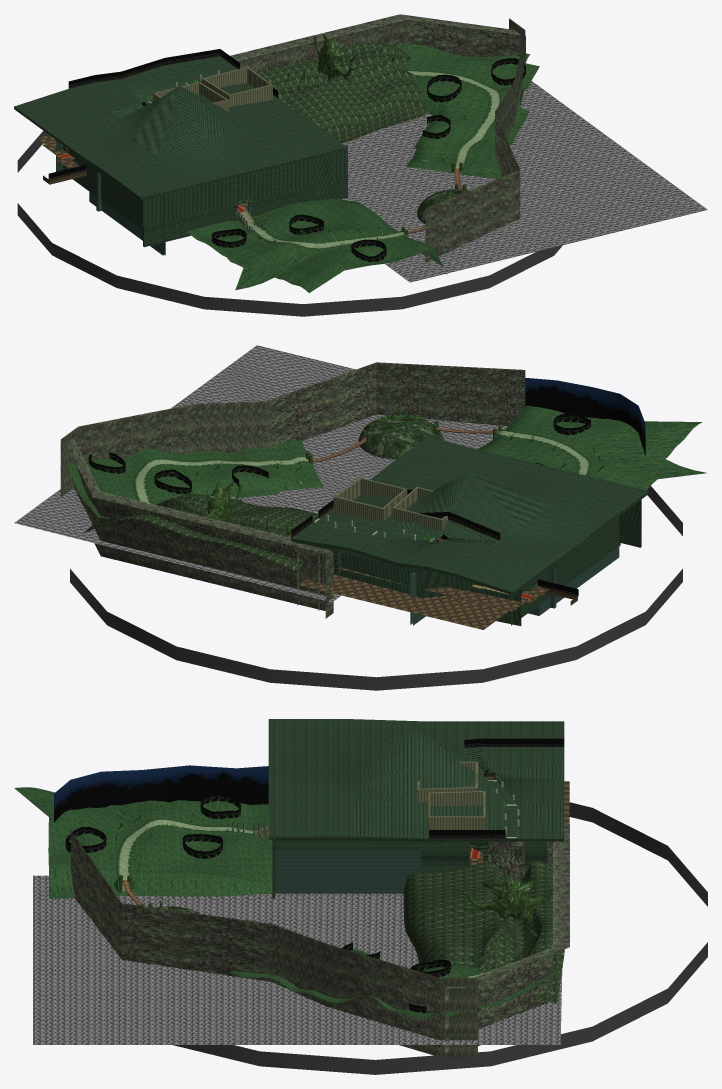
The picture shows the model from 3 angles, top to bottom: view 1: azimuth 30°, elevation 25°; view 2: azimuth 150°, elevation 25°; view 3: azimuth 270°, elevation 25°; orthographic projection. The views are drawn at different scales.
Parts seen in each view (by area): view 1: Water.016, TechoSRSlow, OffroadPast, Walloterere, wallhouse, RoadFueraone, Base, RoadOut, WallTRansArboles, WallIntecho, WallTransTecho, ARbollWall (+3 smaller); view 2: Walloterere, TechoSRSlow, OffroadPast, Water.016, Base, wallhouse, roadlentocasa, RoadFueraone, WallTransFondoNull, WallIntecho, RoadOut, RoadInLago (+5 smaller); view 3: Water.016, TechoSRSlow, Walloterere, OffroadPast, RoadFueraone, Base, WallTransFondoNull, WallInterHouse, wallhouse, WallTRansArboles, WallIntecho, ARbollWall (+3 smaller).
Part boxes in pixels (<box>): Water.016: <box>341,81,707,282</box>; TechoSRSlow: <box>14,56,346,199</box>; OffroadPast: <box>187,42,539,292</box>; Walloterere: <box>230,14,525,262</box>; wallhouse: <box>56,140,347,247</box>; RoadFueraone: <box>258,41,426,143</box>; Base: <box>17,131,562,316</box>; RoadOut: <box>241,69,501,250</box>; WallTRansArboles: <box>212,58,525,261</box>; WallIntecho: <box>153,67,272,111</box>; WallTransTecho: <box>68,49,278,98</box>; ARbollWall: <box>277,34,395,93</box>; Walloterere: <box>60,362,525,618</box>; TechoSRSlow: <box>291,437,648,595</box>; OffroadPast: <box>68,405,706,519</box>; Water.016: <box>14,345,507,602</box>; Base: <box>70,486,682,690</box>; wallhouse: <box>333,438,641,625</box>; roadlentocasa: <box>298,567,548,629</box>; RoadFueraone: <box>84,494,318,572</box>; WallTransFondoNull: <box>525,377,645,456</box>; WallIntecho: <box>333,477,447,531</box>; RoadOut: <box>133,429,591,503</box>; RoadInLago: <box>358,415,443,459</box>; Water.016: <box>33,875,562,1044</box>; TechoSRSlow: <box>268,719,564,841</box>; Walloterere: <box>71,824,569,1058</box>; OffroadPast: <box>14,787,557,1019</box>; RoadFueraone: <box>403,860,564,1003</box>; Base: <box>173,802,707,1074</box>; WallTransFondoNull: <box>54,765,268,822</box>; WallInterHouse: <box>275,849,420,893</box>; wallhouse: <box>272,837,547,898</box>; WallTRansArboles: <box>65,793,450,1012</box>; WallIntecho: <box>417,761,485,834</box>; ARbollWall: <box>462,873,553,959</box>.
Bounding box in the file's own units: 96110 × 25083 × 97128.
Materials: 35 (35 with a texture image).
